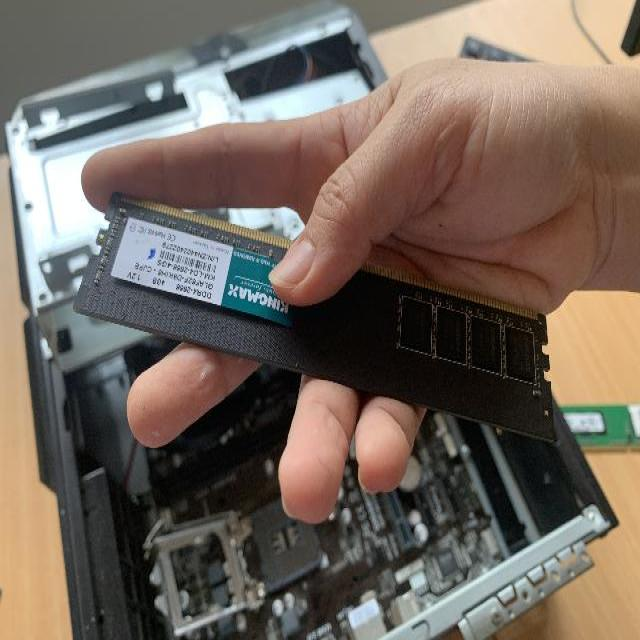RAM: (71, 177, 558, 439)
